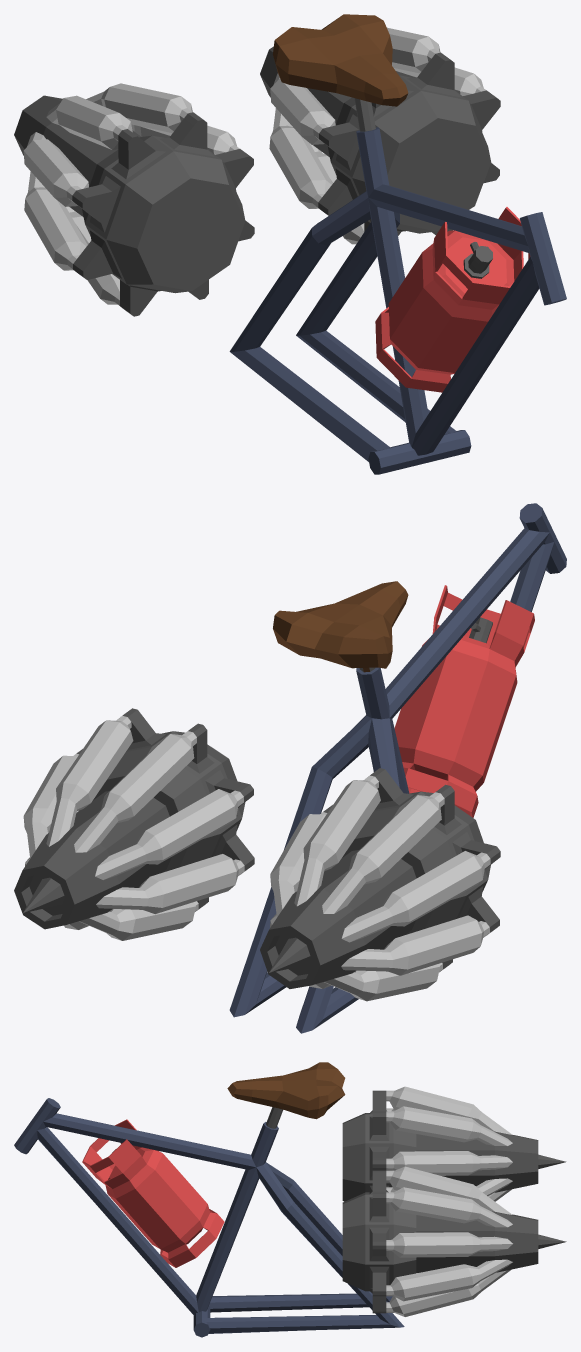
Rendered from Bike.fbx.
3 renders of one model, top to bottom at view 1: azimuth 30°, elevation 25°; view 2: azimuth 150°, elevation 25°; view 3: azimuth 270°, elevation 25°, orthographic. The views are drawn at different scales.
Visible parts, largest first — view 1: Bike; view 2: Bike; view 3: Bike.
Boxes of the visible parts, box(x1,y1,x2,y2) form: Bike: box(14, 14, 566, 474); Bike: box(14, 503, 566, 1033); Bike: box(14, 1062, 566, 1337).
Bounding box in the file's own units: 0.933 × 0.7669 × 1.57.
